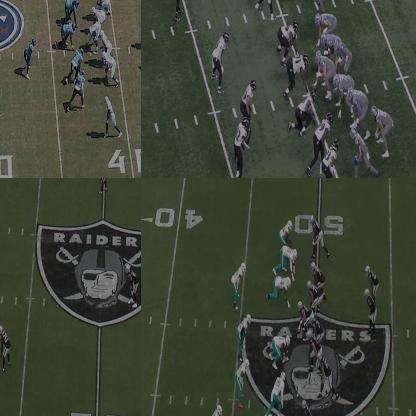CENTER: (316, 52, 332, 92), (298, 301, 312, 334), (86, 26, 96, 49)
DB: (319, 137, 340, 177), (235, 115, 248, 177), (0, 324, 11, 370), (127, 265, 138, 305), (280, 218, 294, 240), (174, 0, 184, 20), (96, 178, 109, 190), (209, 404, 223, 415)
LB: (210, 30, 229, 90), (313, 113, 331, 157), (239, 80, 257, 116), (234, 265, 246, 304), (238, 354, 250, 393), (75, 66, 86, 103), (26, 37, 36, 76), (240, 316, 251, 347)
QB: (364, 289, 377, 333), (336, 38, 352, 72)
SKILL: (350, 125, 380, 177), (372, 106, 393, 157), (318, 354, 333, 399), (312, 216, 328, 256), (106, 95, 120, 136), (366, 268, 378, 296), (302, 400, 317, 415)
